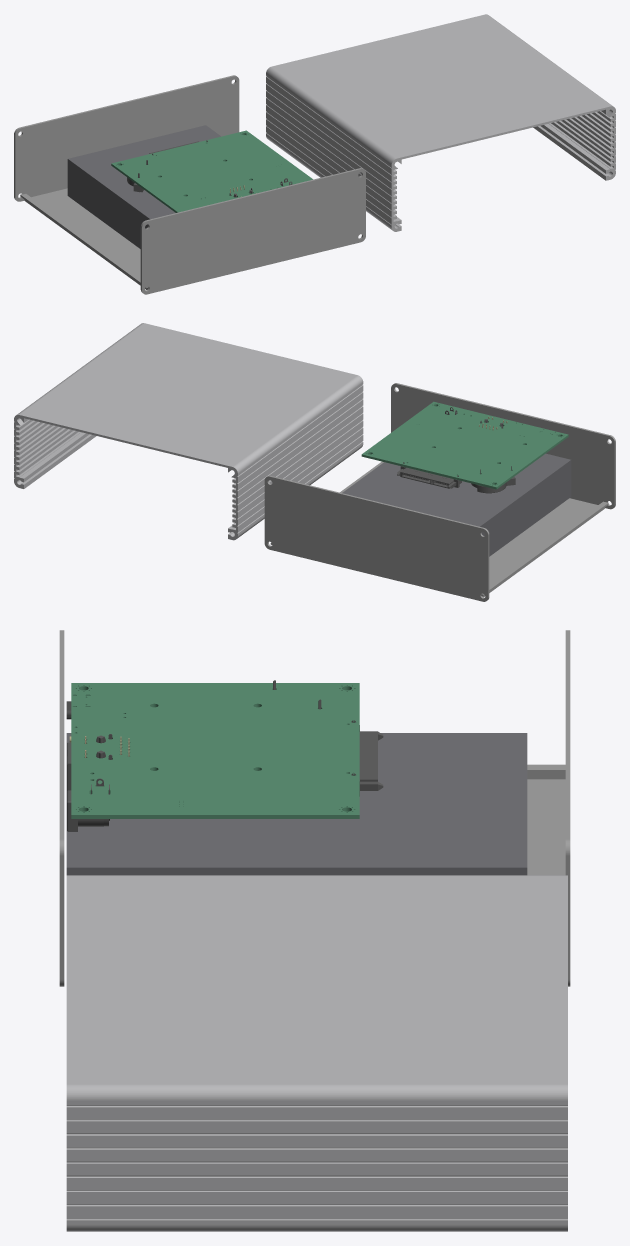
The model's file is assembly-compact.glb.
3 renders of one model, top to bottom at view 1: azimuth 30°, elevation 25°; view 2: azimuth 150°, elevation 25°; view 3: azimuth 270°, elevation 25°, orthographic. The views are drawn at different scales.
Visible parts, largest first — view 1: Case, EndPlate_Front, EndPlate_Back, PCB_Board, HDD, BellyPlate; view 2: Case, EndPlate_Back, PCB_Board, HDD, EndPlate_Front, BellyPlate, PCB_Conn; view 3: Case, HDD, PCB_Board, BellyPlate, PCB_Conn, EndPlate_Front, EndPlate_Back.
Part boxes in pixels (x1,y1,x2,y2): Case: (266,14,615,231); EndPlate_Front: (140,168,365,294); EndPlate_Back: (14,75,239,201); PCB_Board: (111,130,312,212); HDD: (67,125,220,248); BellyPlate: (20,188,148,289); Case: (14,323,363,540); EndPlate_Back: (264,475,489,601); PCB_Board: (361,401,568,489); HDD: (342,453,571,556); EndPlate_Front: (391,383,615,509); BellyPlate: (270,461,608,597); PCB_Conn: (397,407,515,493); Case: (66,875,567,1231); HDD: (66,733,527,875); PCB_Board: (71,683,359,818); BellyPlate: (527,764,565,875); PCB_Conn: (67,680,383,831); EndPlate_Front: (59,630,64,986); EndPlate_Back: (565,630,570,986).
Size of the model in its own units: 0.3499 by 0.0515 by 0.163.
